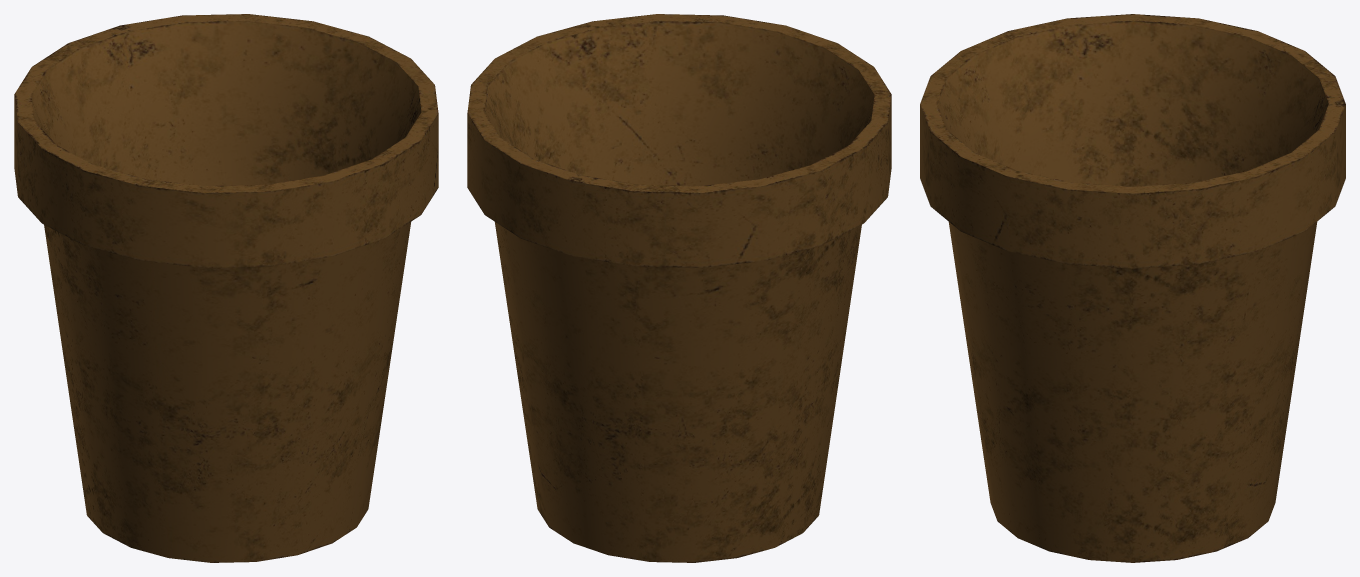
Rendered from obj_flower_pot_with_dirt_and_scr_e11f7e.glb.
3 views of the same model, side by side, from view 1: azimuth 30°, elevation 25°; view 2: azimuth 150°, elevation 25°; view 3: azimuth 270°, elevation 25° (orthographic).
Parts seen in each view (by area): view 1: obj_flower_pot_with_dirt_and_scr_e11f7e; view 2: obj_flower_pot_with_dirt_and_scr_e11f7e; view 3: obj_flower_pot_with_dirt_and_scr_e11f7e.
Boxes of the visible parts, x1=… form: obj_flower_pot_with_dirt_and_scr_e11f7e: x1=14, y1=14, x2=438, y2=562; obj_flower_pot_with_dirt_and_scr_e11f7e: x1=467, y1=14, x2=891, y2=562; obj_flower_pot_with_dirt_and_scr_e11f7e: x1=920, y1=14, x2=1345, y2=562.
Size of the model in its own units: 0.5805 by 0.6 by 0.5805.
Materials: 1 (1 with a texture image).
